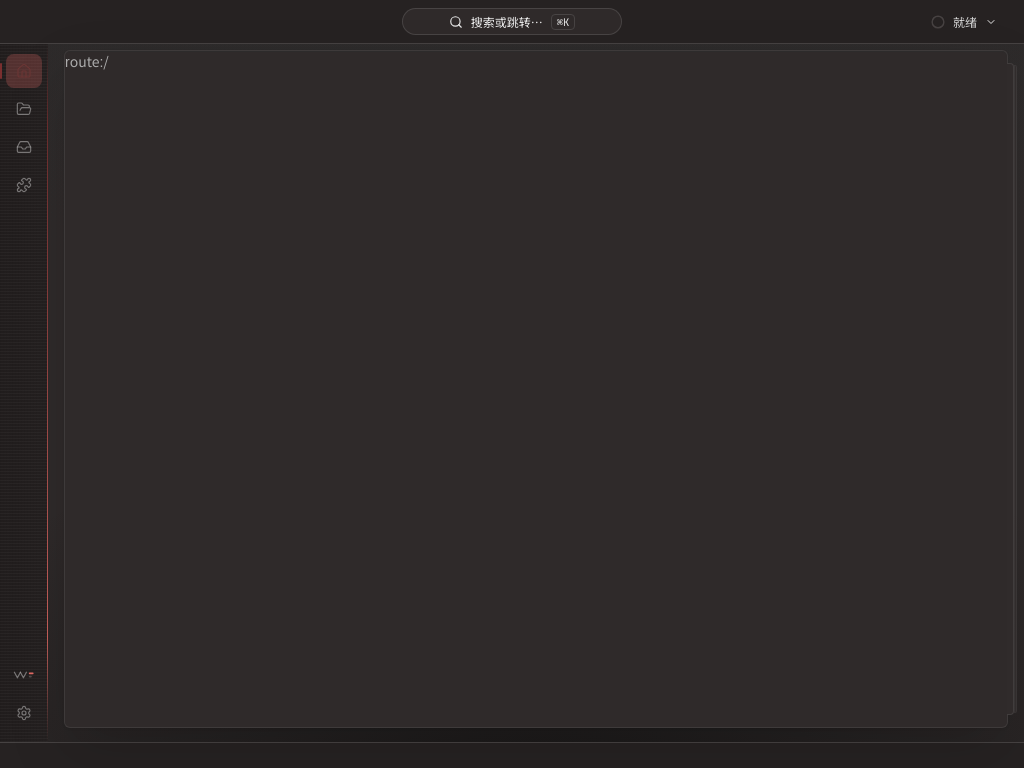
Test: ⌘K 命令面板 › TitleBar 搜索按钮打开面板
Click the button with test id "palette-open-btn" at x=512, y=22, box left=402, top=8, right=622, bottom=35
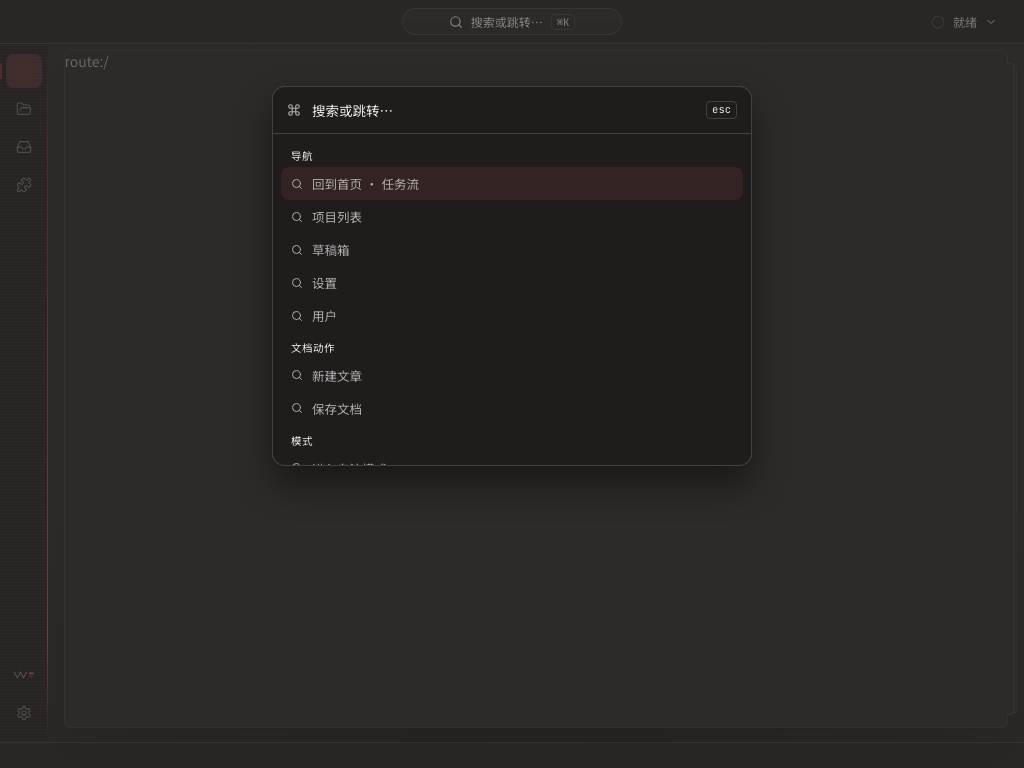
Now the dialog with test id "palette" is shown, box left=272, top=86, right=752, bottom=466
